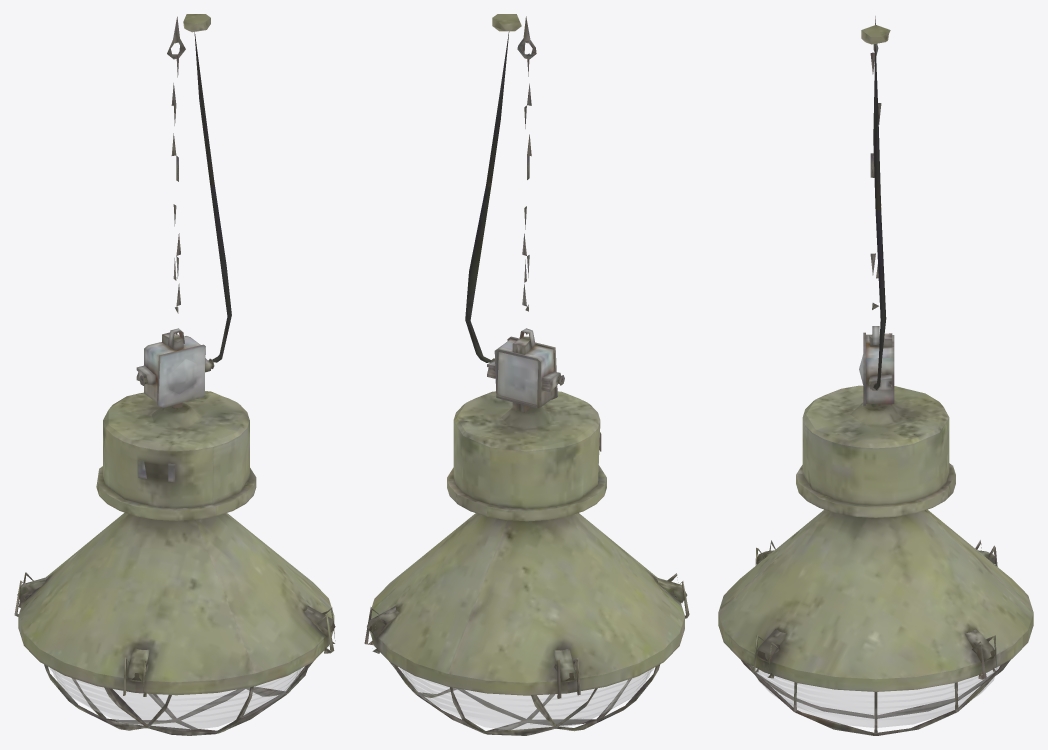
File: pend_industrial.glb
3 renders of one model, left to right at view 1: azimuth 30°, elevation 25°; view 2: azimuth 150°, elevation 25°; view 3: azimuth 270°, elevation 25°, orthographic.
Parts seen in each view (by area): view 1: hanging_industrial_lamp; view 2: hanging_industrial_lamp; view 3: hanging_industrial_lamp.
Boxes of the visible parts, x1=… form: hanging_industrial_lamp: x1=14, y1=14, x2=335, y2=735; hanging_industrial_lamp: x1=364, y1=14, x2=689, y2=735; hanging_industrial_lamp: x1=718, y1=16, x2=1033, y2=735.
Size of the model in its own units: 0.5497 by 1.36 by 0.5497.
Materials: 2 (1 with a texture image).
